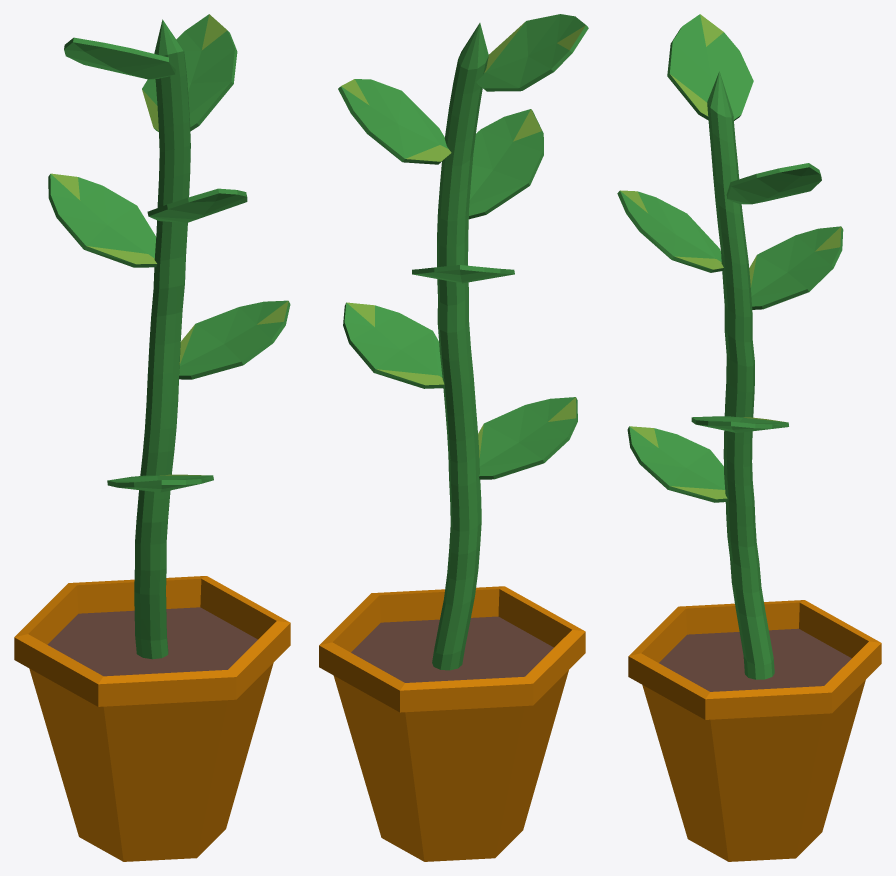
3 renders of one model, left to right at view 1: azimuth 30°, elevation 25°; view 2: azimuth 150°, elevation 25°; view 3: azimuth 270°, elevation 25°, orthographic. The views are drawn at different scales.
Parts seen in each view (by area): view 1: node_MeshObject389668864-PolyPaper21; view 2: node_MeshObject389668864-PolyPaper21; view 3: node_MeshObject389668864-PolyPaper21.
Part boxes in pixels (x1,y1,x2,y2): node_MeshObject389668864-PolyPaper21: (14,14,290,861); node_MeshObject389668864-PolyPaper21: (319,14,588,861); node_MeshObject389668864-PolyPaper21: (617,14,881,861).
Bounding box in the file's own units: 0.9851 × 3.37 × 1.04.
